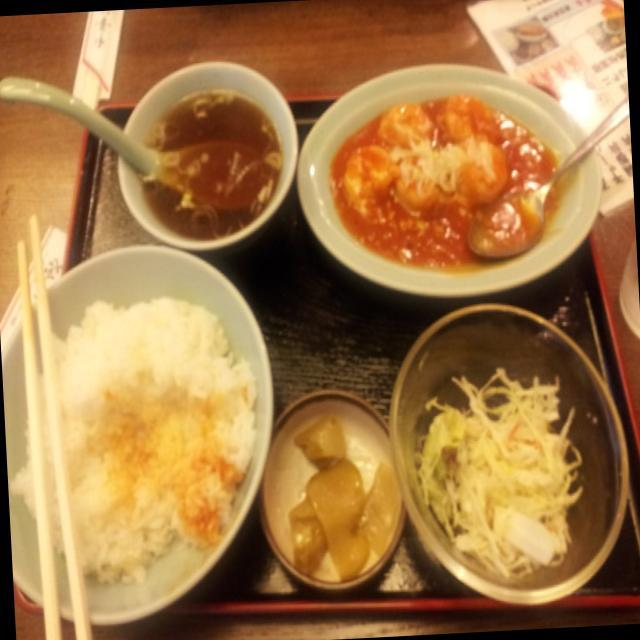Rice: (35, 285, 248, 586)
